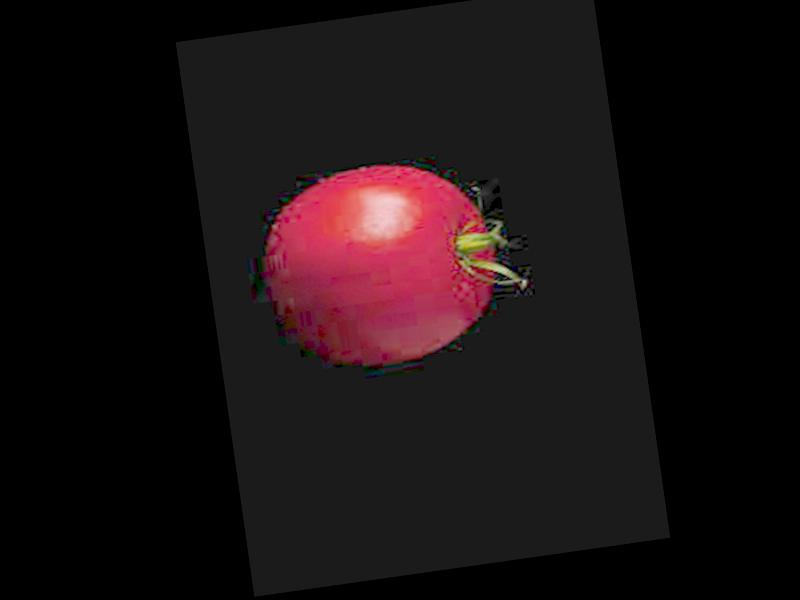Tomato: (261, 152, 506, 376)
